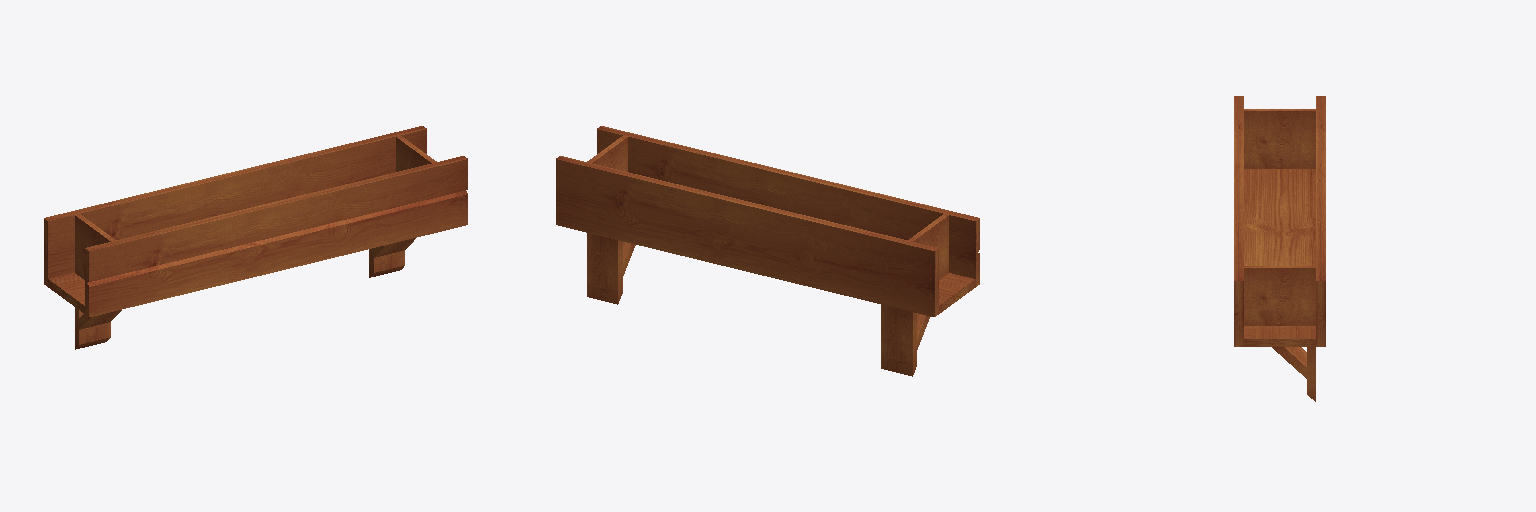
The picture shows the model from 3 angles: view 1: azimuth 30°, elevation 25°; view 2: azimuth 150°, elevation 25°; view 3: azimuth 270°, elevation 25°; orthographic projection.
Visible parts, largest first — view 1: front, back, bracket001, left, bracket002, bottom, right; view 2: back, front, bracket001, bracket002, left, bottom, right; view 3: bottom, left, right, back, front, bracket002.
Boxes of the visible parts, <box> form: front: <box>85,156,467,316</box>; back: <box>44,126,426,286</box>; bracket001: <box>75,307,121,349</box>; left: <box>75,214,116,279</box>; bracket002: <box>369,238,415,277</box>; bottom: <box>48,273,84,313</box>; right: <box>396,135,437,171</box>; back: <box>556,156,938,316</box>; front: <box>597,126,979,286</box>; bracket001: <box>881,305,929,376</box>; bracket002: <box>587,233,635,304</box>; left: <box>907,213,949,279</box>; bottom: <box>939,273,975,313</box>; right: <box>587,135,628,171</box>; bottom: <box>1244,169,1315,346</box>; left: <box>1241,109,1315,168</box>; right: <box>1241,266,1315,325</box>; back: <box>1316,96,1325,346</box>; front: <box>1234,96,1243,346</box>; bracket002: <box>1272,347,1315,401</box>.
Size of the model in its own units: 36 by 12.25 by 7.5.
Materials: 3 (3 with a texture image).